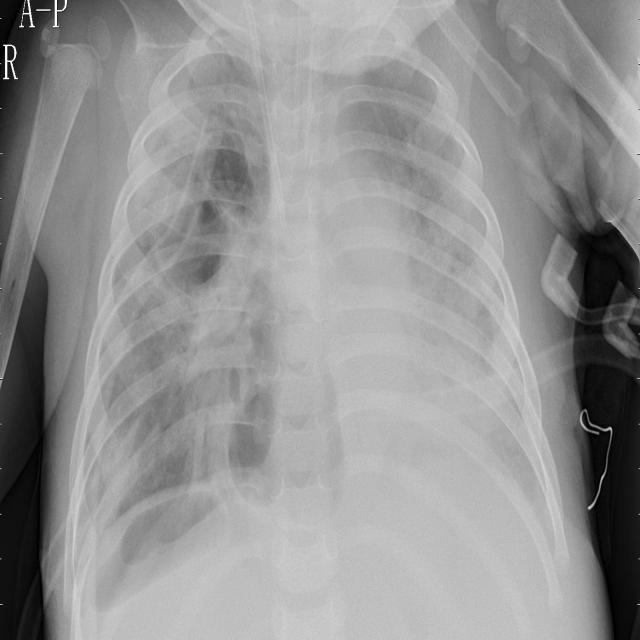high-pneumonia: (113, 15, 265, 303), (180, 183, 281, 450)
low-pneumonia: (424, 193, 534, 441)
